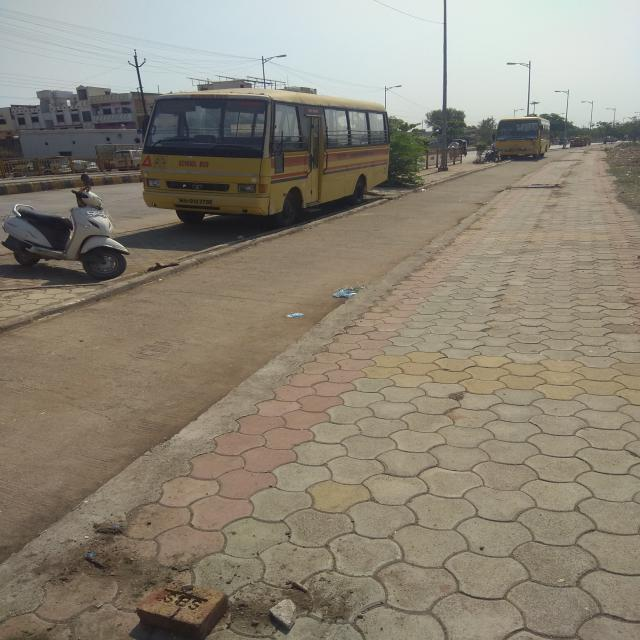bus_front: (134, 74, 399, 230), (492, 116, 558, 169)
